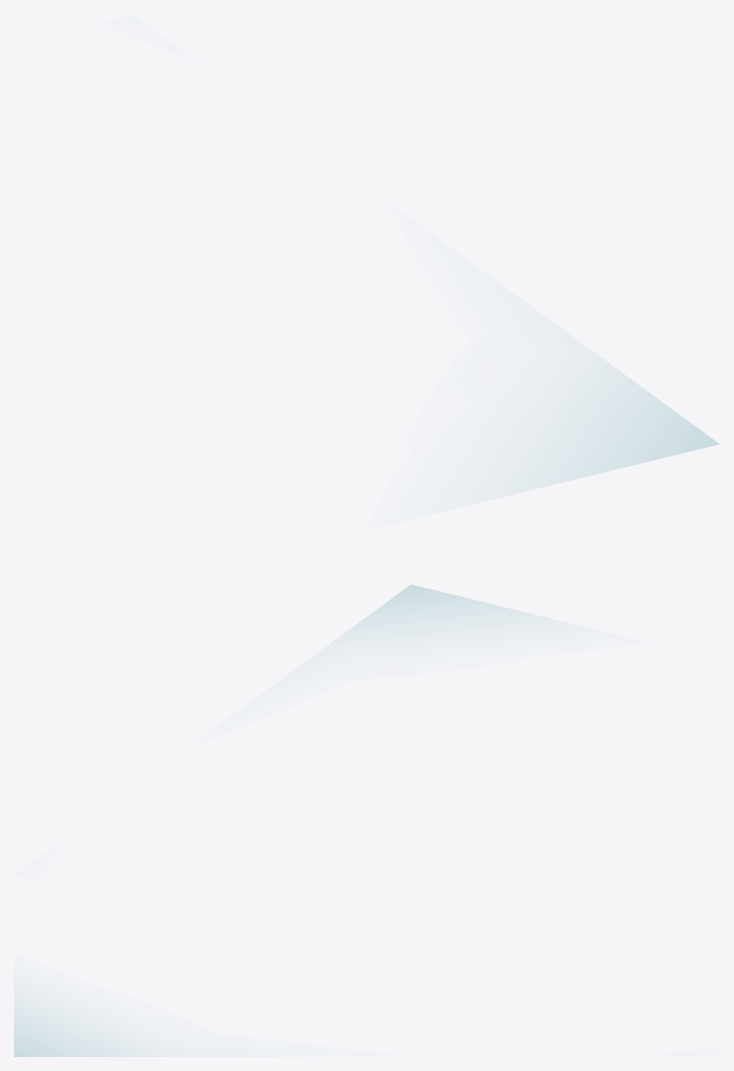
3 renders of one model, top to bottom at view 1: azimuth 30°, elevation 25°; view 2: azimuth 150°, elevation 25°; view 3: azimuth 270°, elevation 25°, orthographic. The views are drawn at different scales.
Parts seen in each view (by area): view 1: city; view 2: city; view 3: city.
Boxes of the visible parts, x1,y1,x2,y2 form: city: [527, 366, 718, 490]; city: [341, 584, 540, 636]; city: [14, 1000, 141, 1056].
Bounding box in the file's own units: 224 × 0 × 500.
